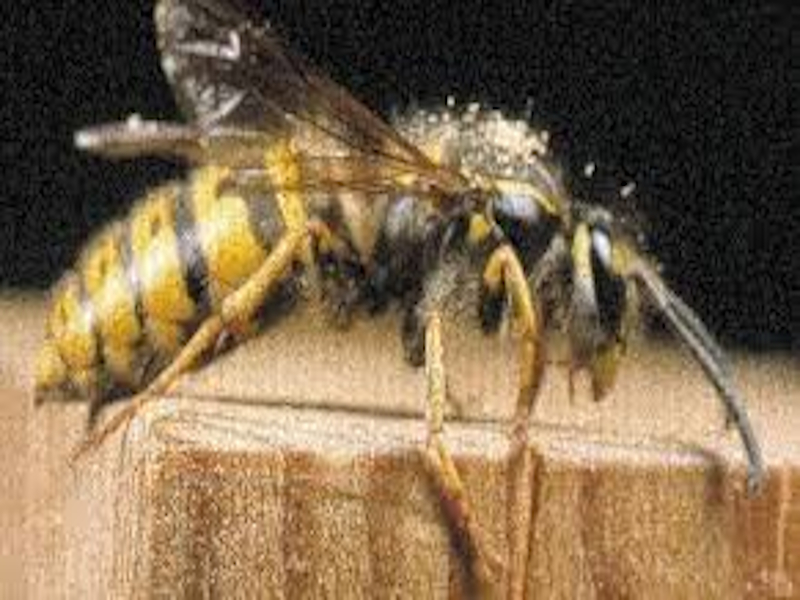chax: (17, 1, 786, 484)
